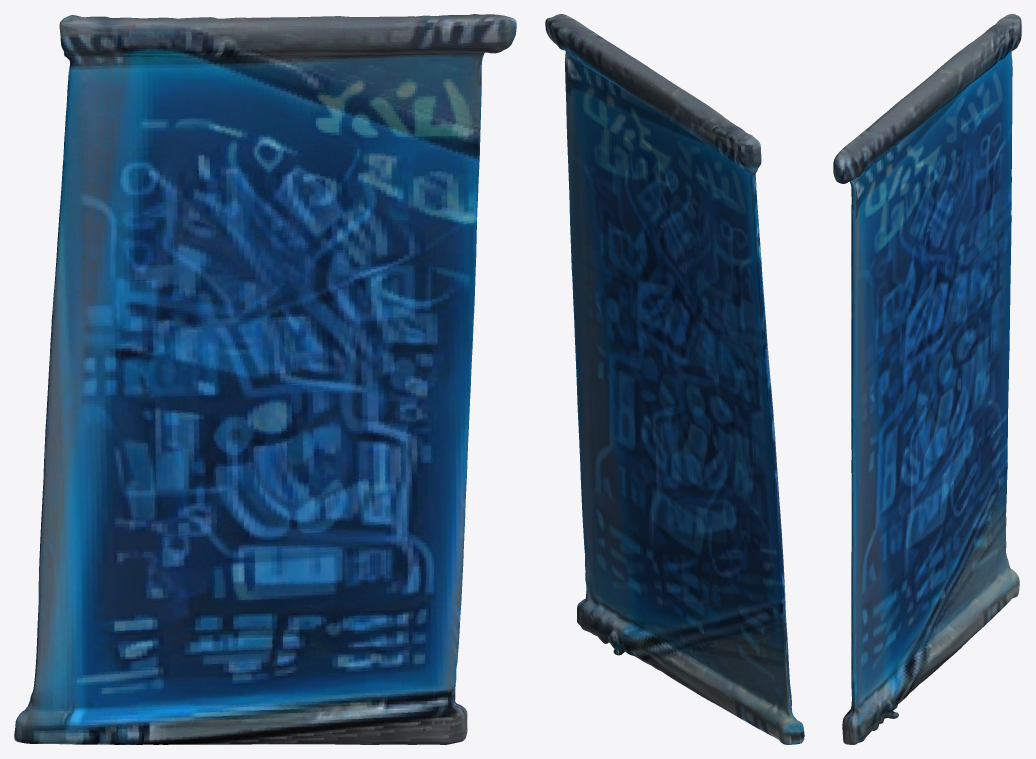
Rendered from star_mall_map.glb.
3 views of the same model, side by side, from view 1: azimuth 30°, elevation 25°; view 2: azimuth 150°, elevation 25°; view 3: azimuth 270°, elevation 25° (orthographic). The views are drawn at different scales.
Size of the model in its own units: 1.17 by 2 by 0.5596.
Materials: 1 (1 with a texture image).
